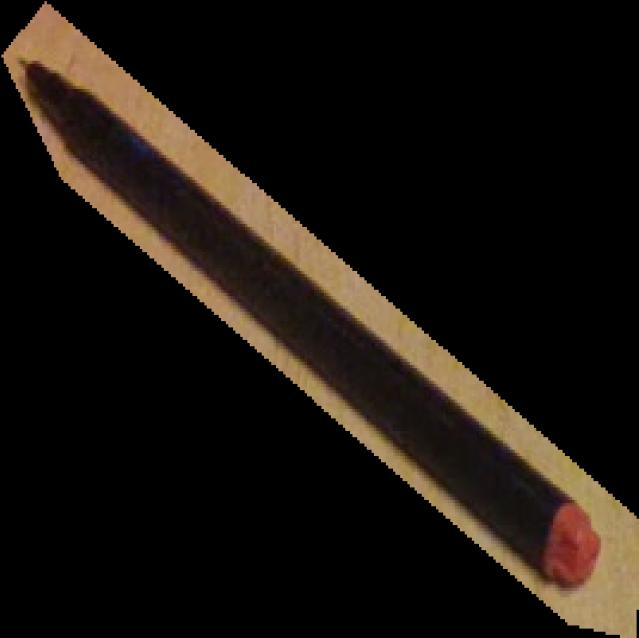red: (1, 0, 639, 638)
